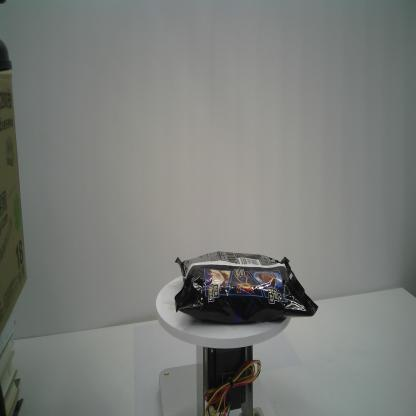Instant Noodles: (172, 252, 319, 326)
